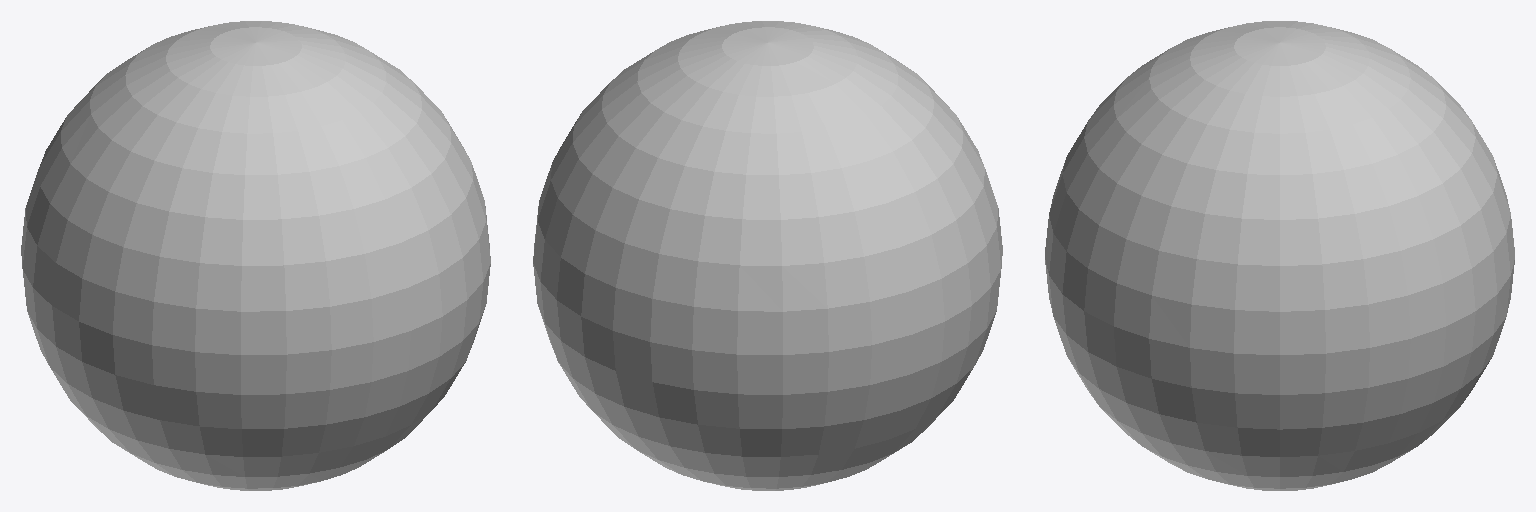
The model's file is football.obj.
The picture shows the model from 3 angles: view 1: azimuth 30°, elevation 25°; view 2: azimuth 150°, elevation 25°; view 3: azimuth 270°, elevation 25°; orthographic projection.
Parts seen in each view (by area): view 1: Sphere001; view 2: Sphere001; view 3: Sphere001.
Boxes of the visible parts, box(x1,y1,x2,y2) form: Sphere001: box(21, 21, 490, 490); Sphere001: box(533, 21, 1002, 490); Sphere001: box(1045, 21, 1514, 490).
Bounding box in the file's own units: 2.16 × 2.16 × 2.16.